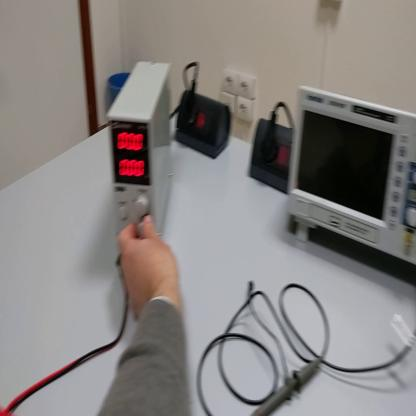hand: (119, 216, 181, 320)
oscilloscope: (291, 83, 416, 270)
oscilloscope probe tip: (253, 360, 325, 416)
power supply: (100, 51, 174, 274)
socket: (174, 92, 237, 162), (247, 121, 294, 195)
